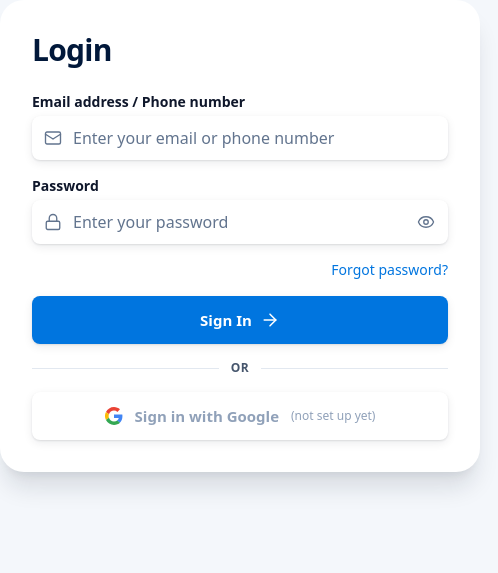
Test case: LoginPage › shows the generic server error
Type "a@example.com" into the field labelled "Email address / Phone number" at (240, 138), box [32,116,448,160]
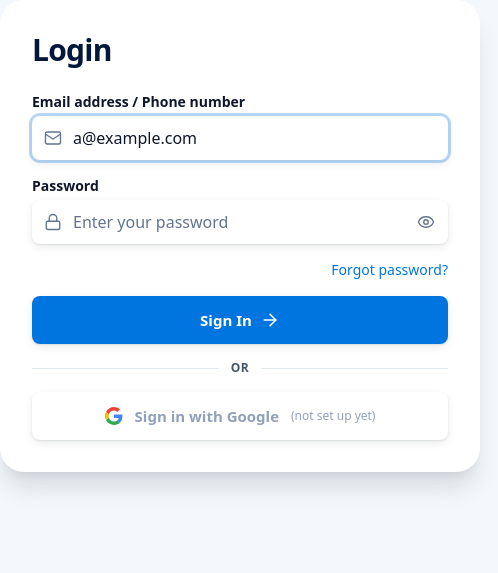
Type "whatever-password" into the password field labelled "Password" at (240, 222), box [32,200,448,244]
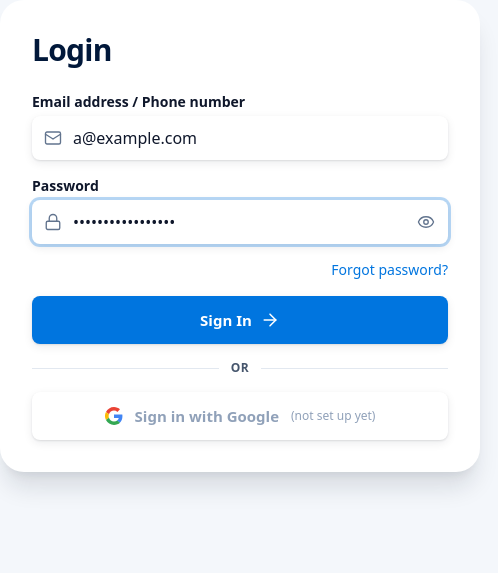
Click the button "Sign In" at (240, 320), box [32,296,448,344]
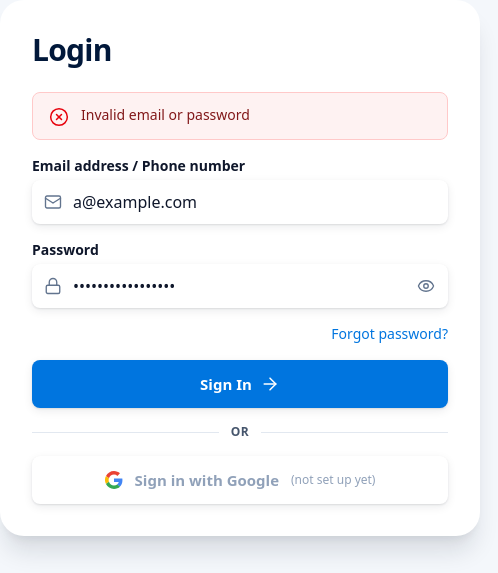
Now the message reads "Invalid email or password", box [81,105,250,124]
